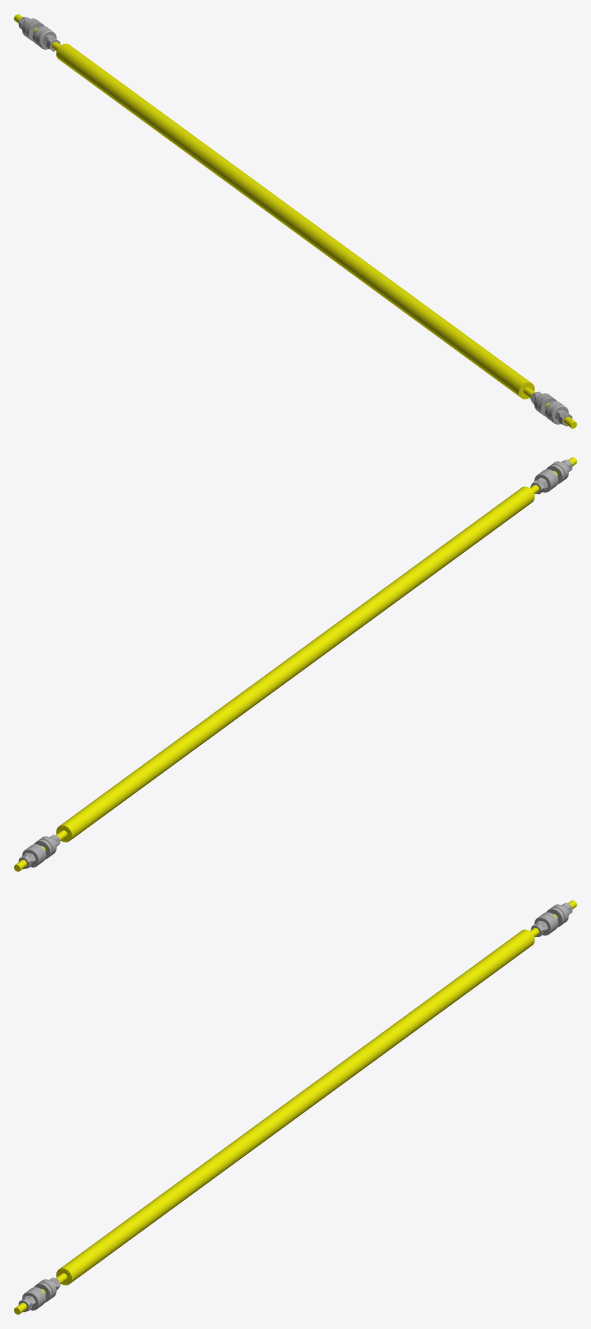
The model's file is Pressao_Balanceada_com_Derivacao.fbx.
3 renders of one model, top to bottom at view 1: azimuth 30°, elevation 25°; view 2: azimuth 150°, elevation 25°; view 3: azimuth 330°, elevation 25°, orthographic.
Parts seen in each view (by area): view 1: CONJUNTO_TIRANTE:TIRANTE; view 2: CONJUNTO_TIRANTE:TIRANTE; view 3: CONJUNTO_TIRANTE:TIRANTE.
Boxes of the visible parts, <box> form: CONJUNTO_TIRANTE:TIRANTE: <box>14,14,576,428</box>; CONJUNTO_TIRANTE:TIRANTE: <box>14,457,576,871</box>; CONJUNTO_TIRANTE:TIRANTE: <box>14,900,576,1314</box>.
Size of the model in its own units: 0.098 by 0.098 by 5.41.
